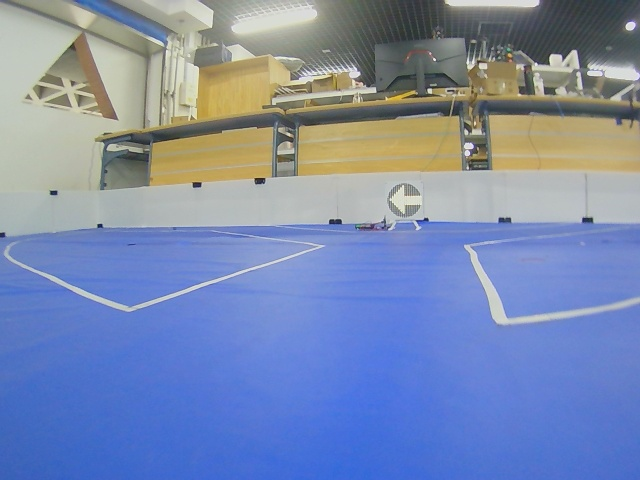left_yellow: (388, 183, 422, 218)
